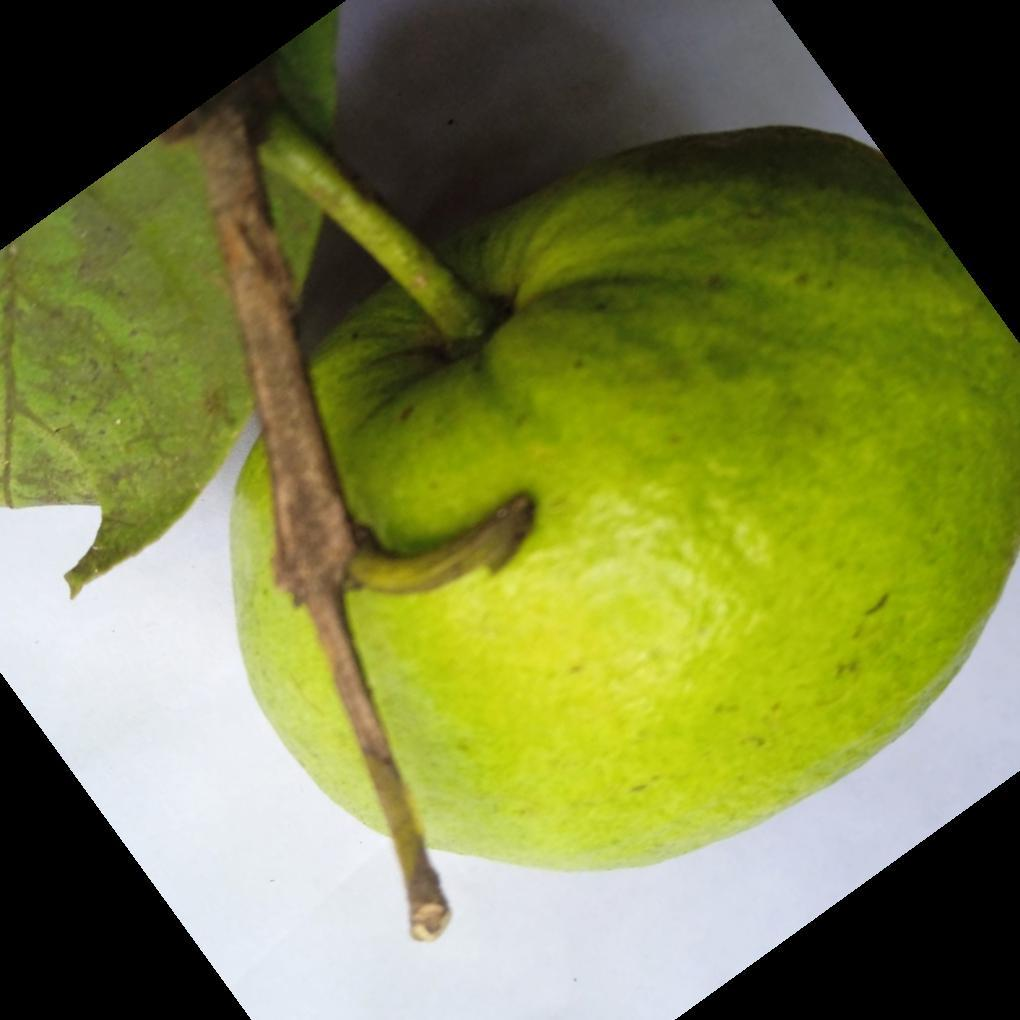FreshGuava: (226, 44, 1020, 946)
